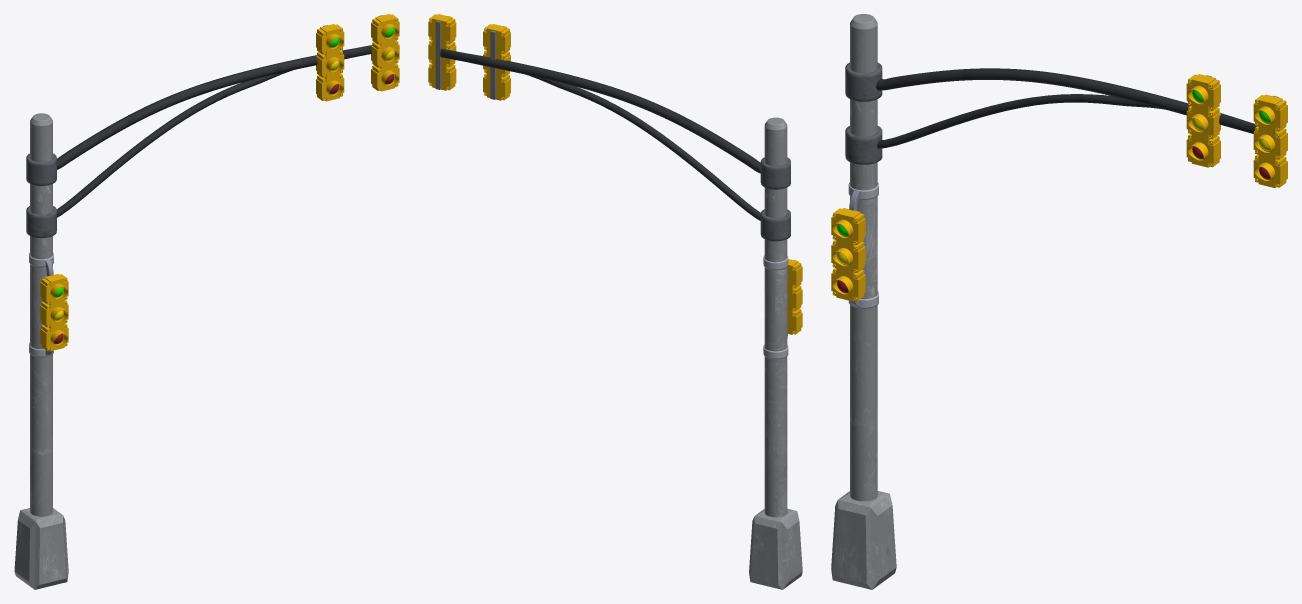
The model's file is bigTrafficLight.fbx.
3 renders of one model, left to right at view 1: azimuth 30°, elevation 25°; view 2: azimuth 150°, elevation 25°; view 3: azimuth 330°, elevation 25°, orthographic. The views are drawn at different scales.
Parts seen in each view (by area): view 1: pCylinder1, pCube1, pCube4, pCube5, pCylinder3, pCylinder2; view 2: pCylinder1, pCube1, pCube4, pCube5, pCylinder3, pCylinder2; view 3: pCylinder1, pCube1, pCube4, pCube5, pCylinder2, pCylinder3.
Part boxes in pixels (x1=…): pCylinder1: x1=30, y1=113, x2=52, y2=516; pCube1: x1=14, y1=508, x2=68, y2=589; pCube4: x1=57, y1=45, x2=372, y2=169; pCube5: x1=57, y1=70, x2=293, y2=217; pCylinder3: x1=26, y1=153, x2=56, y2=185; pCylinder2: x1=26, y1=206, x2=56, y2=237; pCylinder1: x1=764, y1=117, x2=787, y2=517; pCube1: x1=749, y1=508, x2=802, y2=589; pCube4: x1=440, y1=48, x2=760, y2=173; pCube5: x1=526, y1=74, x2=760, y2=220; pCylinder3: x1=760, y1=157, x2=790, y2=189; pCylinder2: x1=760, y1=209, x2=790, y2=241; pCylinder1: x1=850, y1=14, x2=877, y2=501; pCube1: x1=831, y1=491, x2=896, y2=589; pCube4: x1=876, y1=68, x2=1256, y2=133; pCube5: x1=877, y1=94, x2=1164, y2=148; pCylinder2: x1=845, y1=126, x2=882, y2=164; pCylinder3: x1=845, y1=62, x2=882, y2=101.
Size of the model in its own units: 134 by 168 by 19.76.
Materials: 27 (27 with a texture image).
